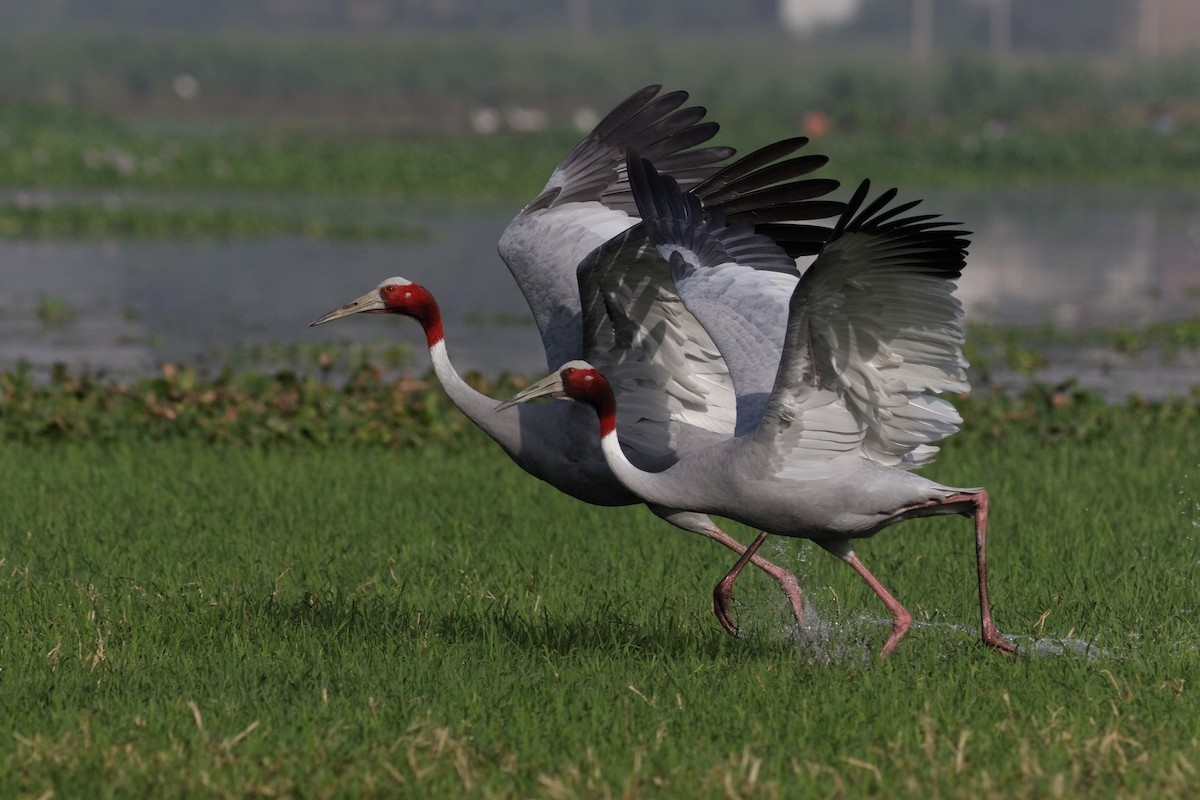crane: (486, 253, 1076, 663), (299, 267, 515, 451)
